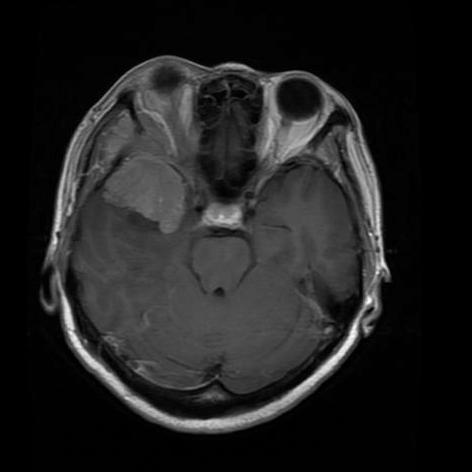Tumour-Pituitary: (96, 115, 200, 249)
